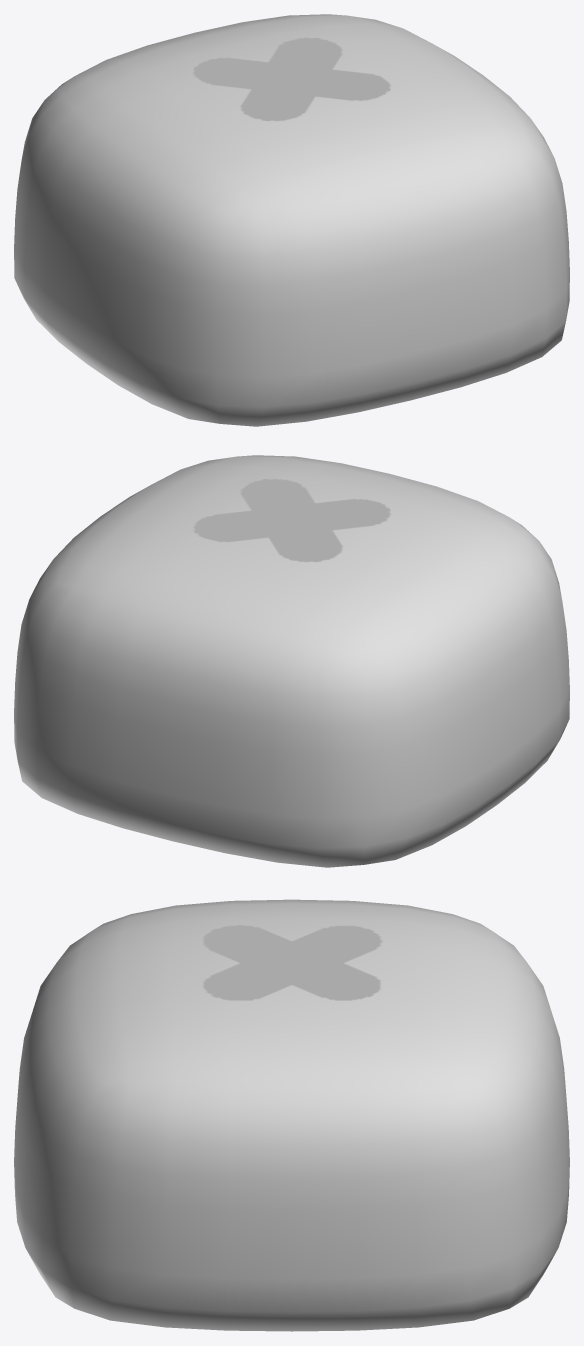
The model's file is tile_wall_error.glb.
3 renders of one model, top to bottom at view 1: azimuth 30°, elevation 25°; view 2: azimuth 150°, elevation 25°; view 3: azimuth 270°, elevation 25°, orthographic. The views are drawn at different scales.
Visible parts, largest first — view 1: obj_tile_wall_error; view 2: obj_tile_wall_error; view 3: obj_tile_wall_error.
Boxes of the visible parts, x1,y1,x2,y2 form: obj_tile_wall_error: [14, 14, 569, 426]; obj_tile_wall_error: [14, 455, 569, 867]; obj_tile_wall_error: [14, 899, 569, 1331].
Size of the model in its own units: 0.9959 by 0.5267 by 0.9959.
1 material, 1 textured.
